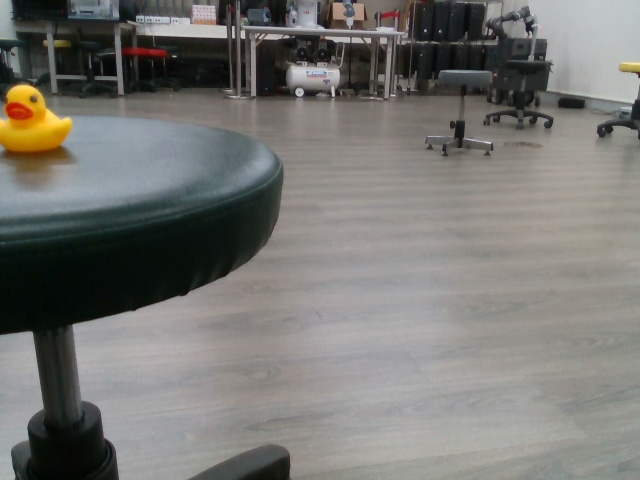duck: (1, 81, 75, 155)
